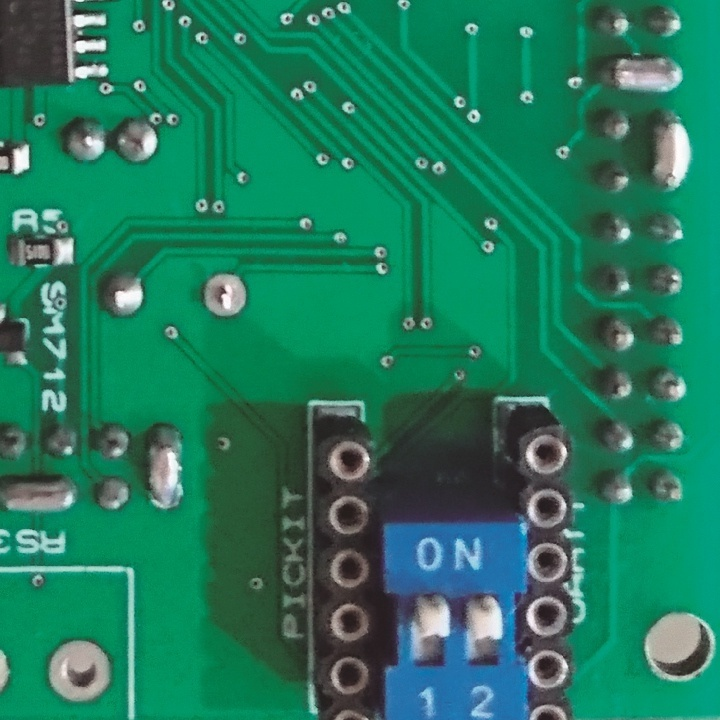F: (44, 636, 115, 704), (201, 270, 251, 322)
P: (144, 421, 189, 514), (650, 105, 694, 200), (595, 52, 685, 96), (1, 470, 83, 517)
